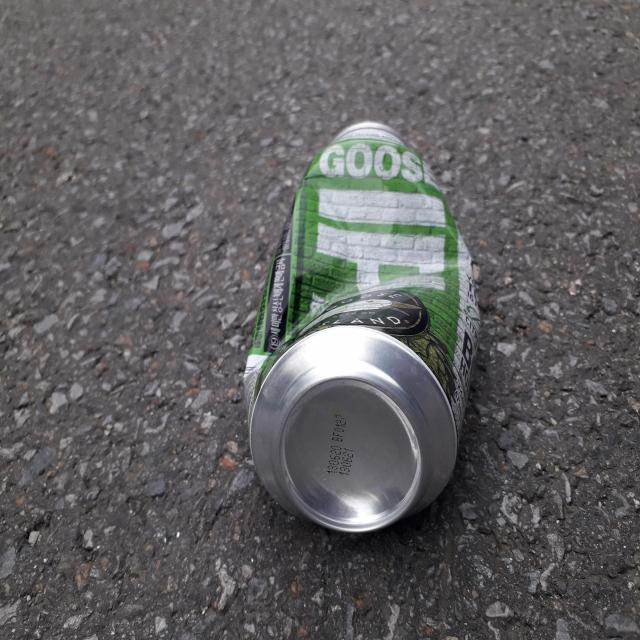can: (245, 122, 480, 532)
